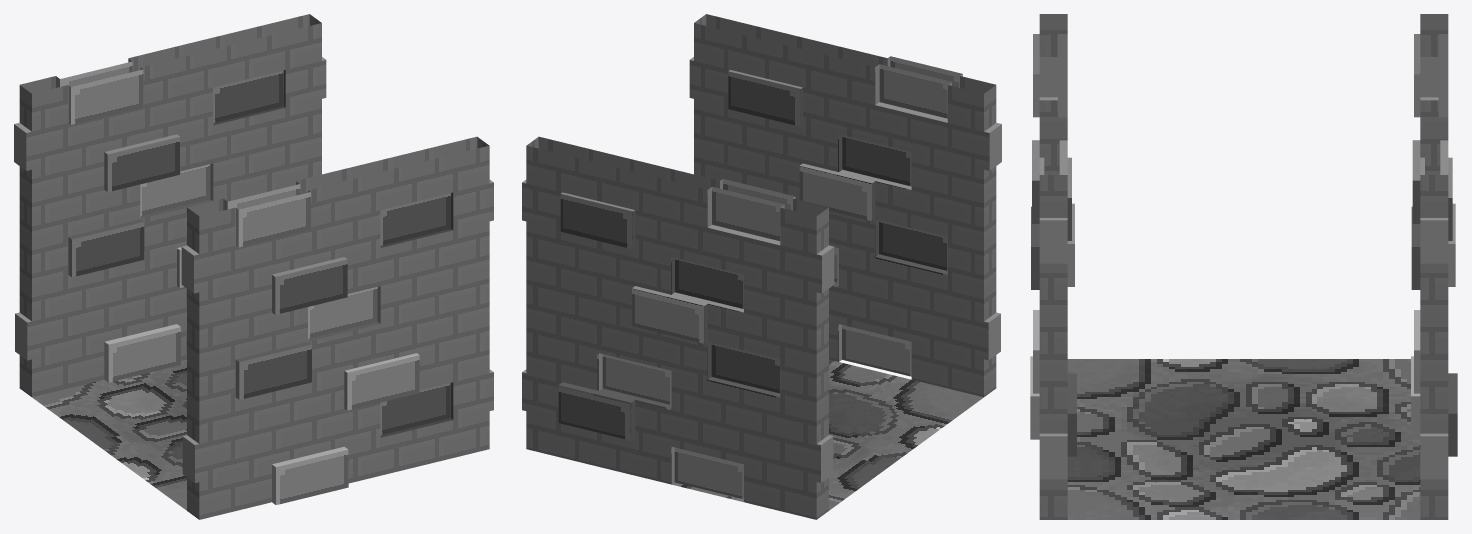
3 renders of one model, left to right at view 1: azimuth 30°, elevation 25°; view 2: azimuth 150°, elevation 25°; view 3: azimuth 270°, elevation 25°, orthographic. The views are drawn at different scales.
Visible parts, largest first — view 1: 2WS; view 2: 2WS; view 3: 2WS.
Part boxes in pixels (<box>): 2WS: <box>14,14,493,519</box>; 2WS: <box>522,14,1001,519</box>; 2WS: <box>1030,14,1457,519</box>.
Size of the model in its own units: 2.07 by 2 by 2.24.
Materials: 2 (2 with a texture image).
